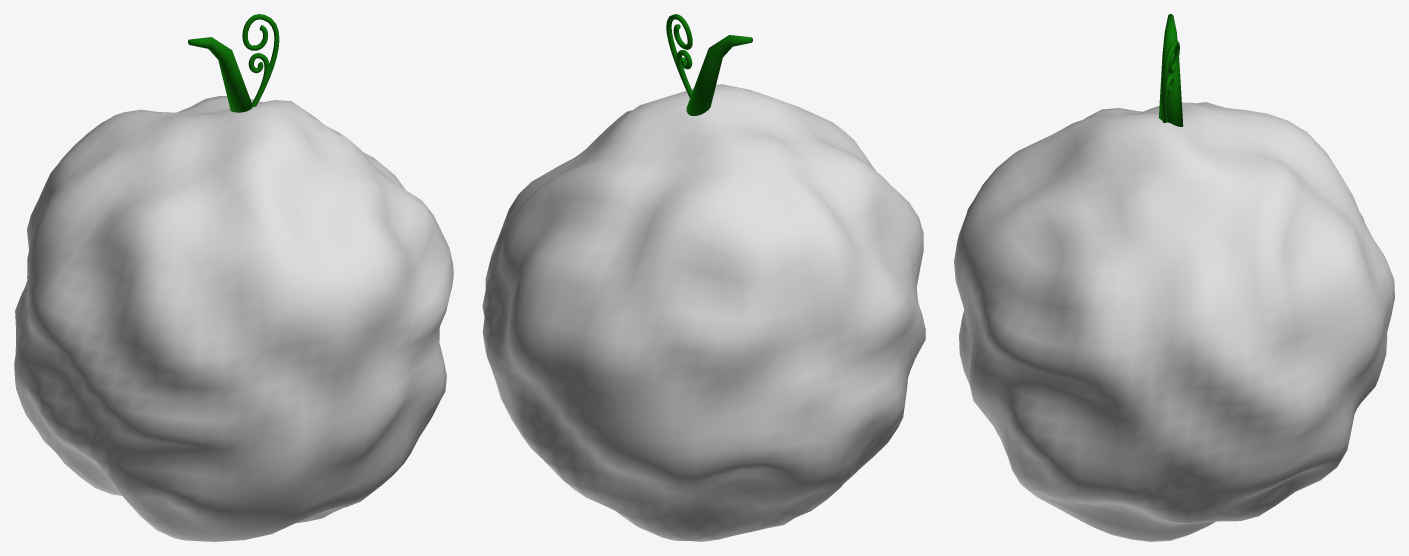
File: dryad fruit.fbx
The picture shows the model from 3 angles, left to right: view 1: azimuth 30°, elevation 25°; view 2: azimuth 150°, elevation 25°; view 3: azimuth 270°, elevation 25°; orthographic projection.
Parts seen in each view (by area): view 1: Roundcube; view 2: Roundcube; view 3: Roundcube.
Part boxes in pixels (x1,y1,x2,y2): Roundcube: (14,14,453,541); Roundcube: (482,14,925,541); Roundcube: (954,14,1394,541).
Bounding box in the file's own units: 201 × 250 × 203.
